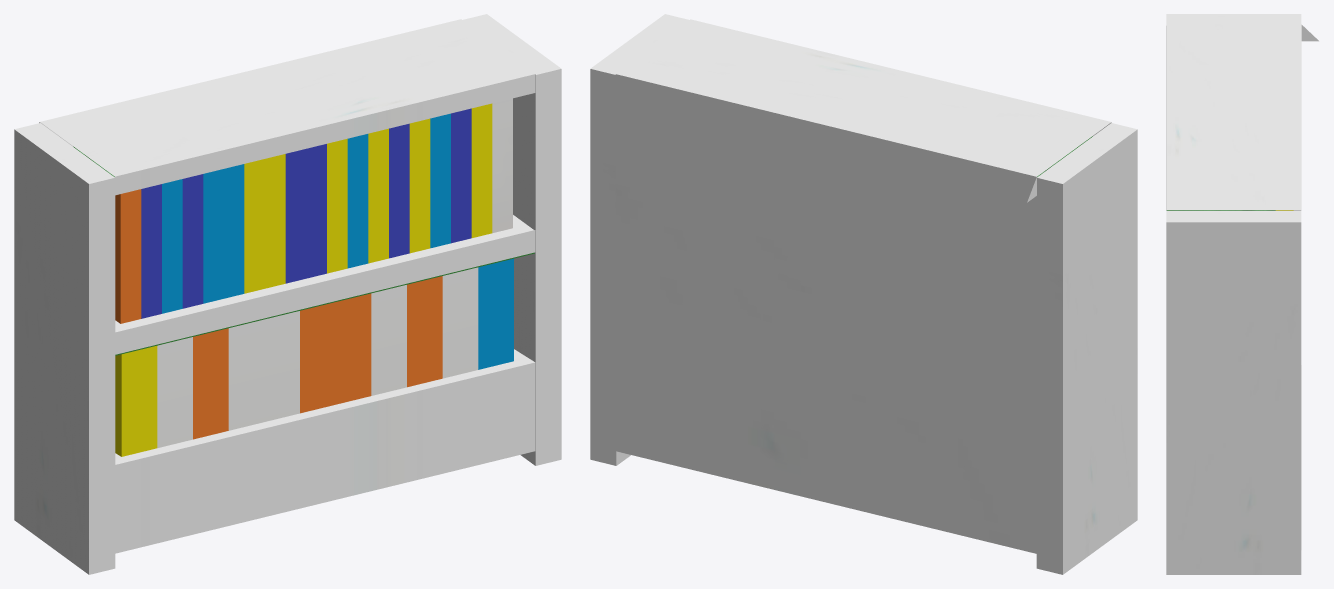
The model's file is LibreriaB2.obj.
3 views of the same model, side by side, from view 1: azimuth 30°, elevation 25°; view 2: azimuth 150°, elevation 25°; view 3: azimuth 270°, elevation 25° (orthographic). The views are drawn at different scales.
Visible parts, largest first — view 1: Libreria6:pasted__pasted__pCube1pasted__group3group4; view 2: Libreria6:pasted__pasted__pCube1pasted__group3group4; view 3: Libreria6:pasted__pasted__pCube1pasted__group3group4.
Boxes of the visible parts, box(x1,y1,x2,y2) form: Libreria6:pasted__pasted__pCube1pasted__group3group4: box(14, 14, 561, 574); Libreria6:pasted__pasted__pCube1pasted__group3group4: box(590, 14, 1137, 574); Libreria6:pasted__pasted__pCube1pasted__group3group4: box(1166, 14, 1318, 574).
Size of the model in its own units: 3.52 by 2.79 by 1.09.
